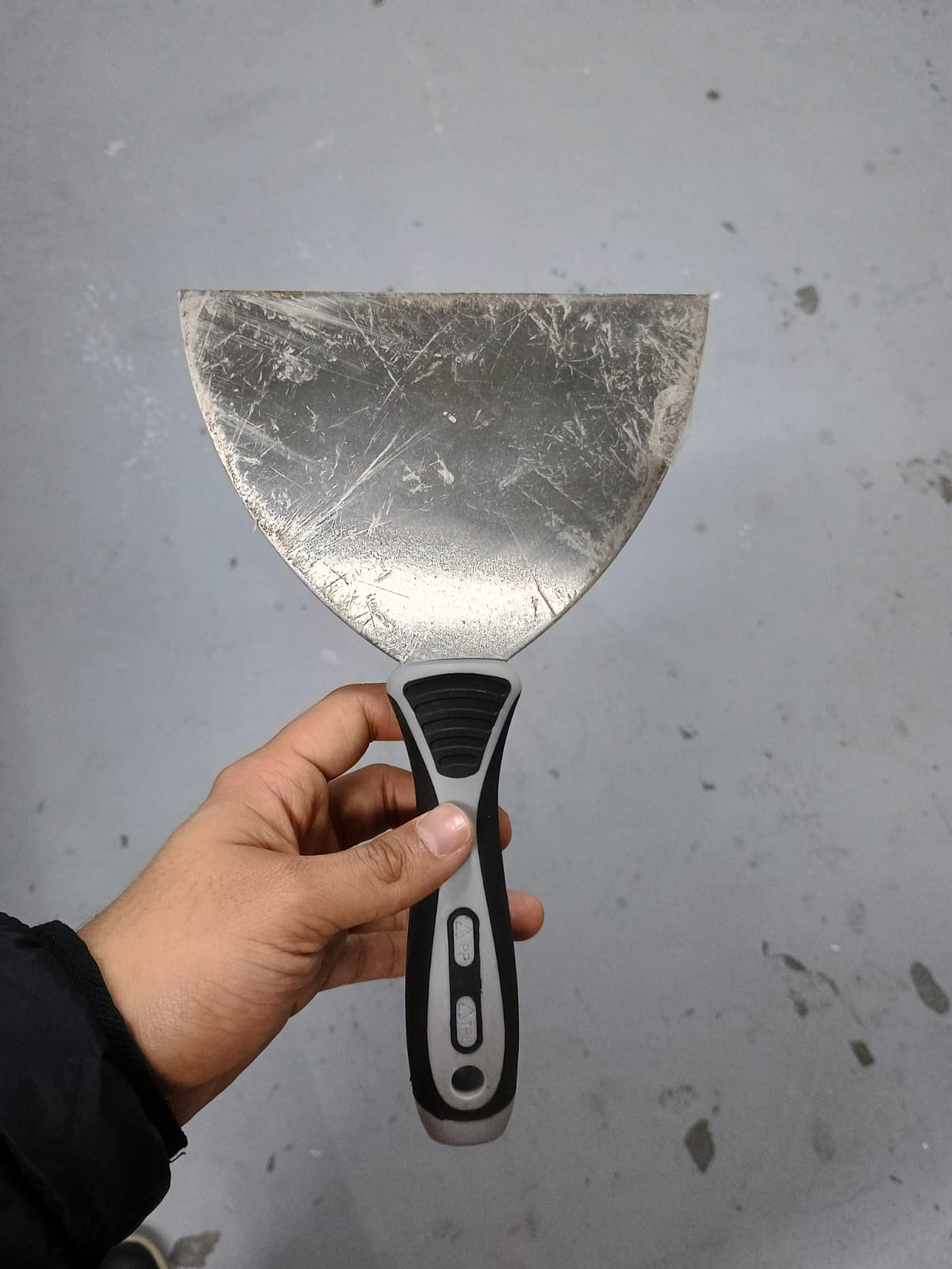Metal: (170, 290, 724, 664)
